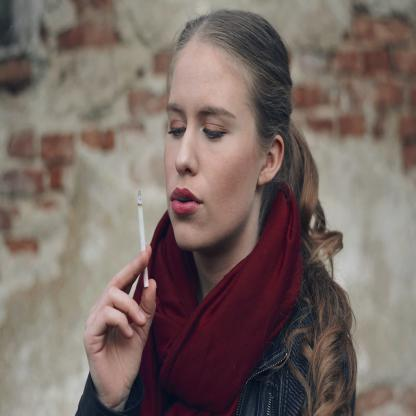smoking: (137, 190, 149, 288)
